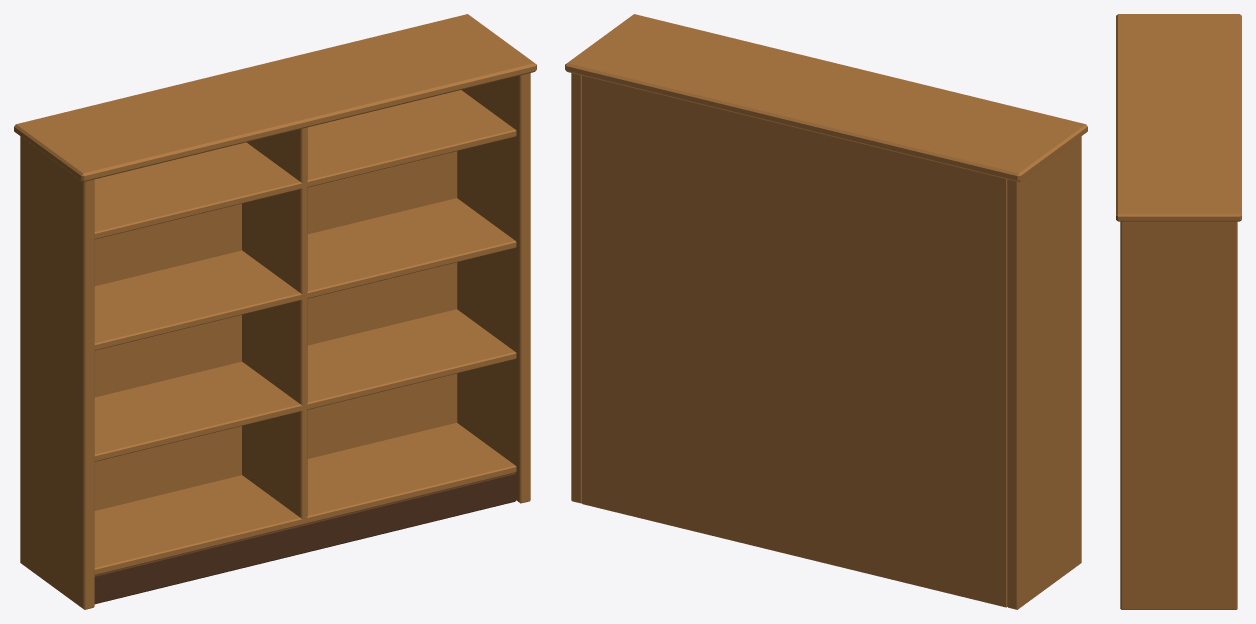
The model's file is EstanteAbertaMadeira.fbx.
3 renders of one model, left to right at view 1: azimuth 30°, elevation 25°; view 2: azimuth 150°, elevation 25°; view 3: azimuth 270°, elevation 25°, orthographic. The views are drawn at different scales.
Visible parts, largest first — view 1: EstanteAbertaMadeira; view 2: EstanteAbertaMadeira; view 3: EstanteAbertaMadeira.
Boxes of the visible parts, x1=… form: EstanteAbertaMadeira: x1=14, y1=14, x2=536, y2=609; EstanteAbertaMadeira: x1=565, y1=14, x2=1087, y2=609; EstanteAbertaMadeira: x1=1116, y1=14, x2=1241, y2=609.
Bounding box in the file's own units: 1.63 × 1.5 × 0.43.
